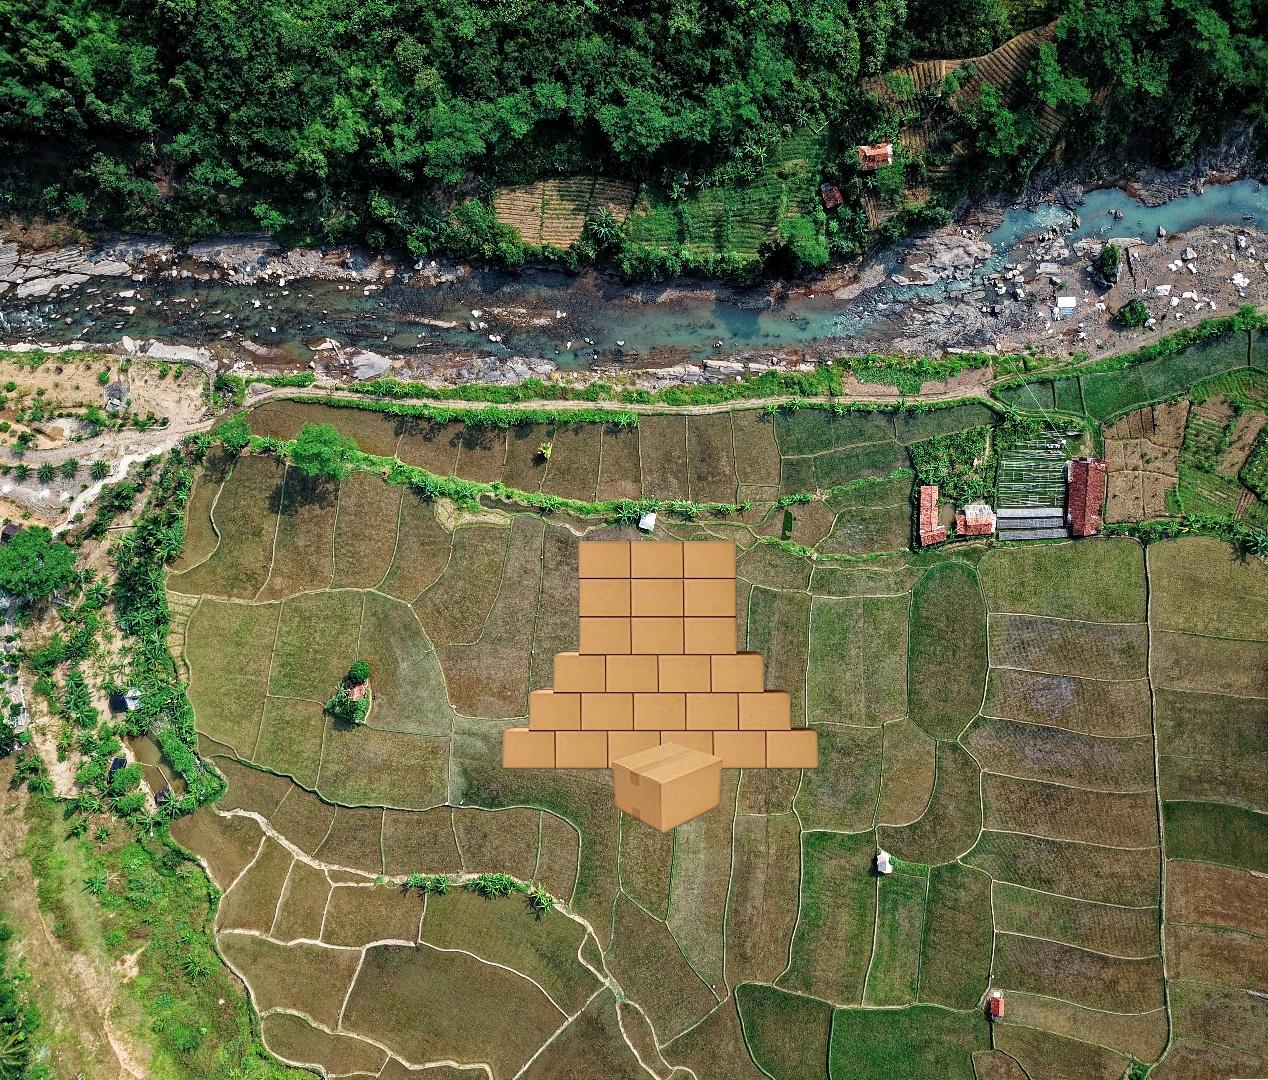trashbox-cardboard: (500, 538, 820, 835)
